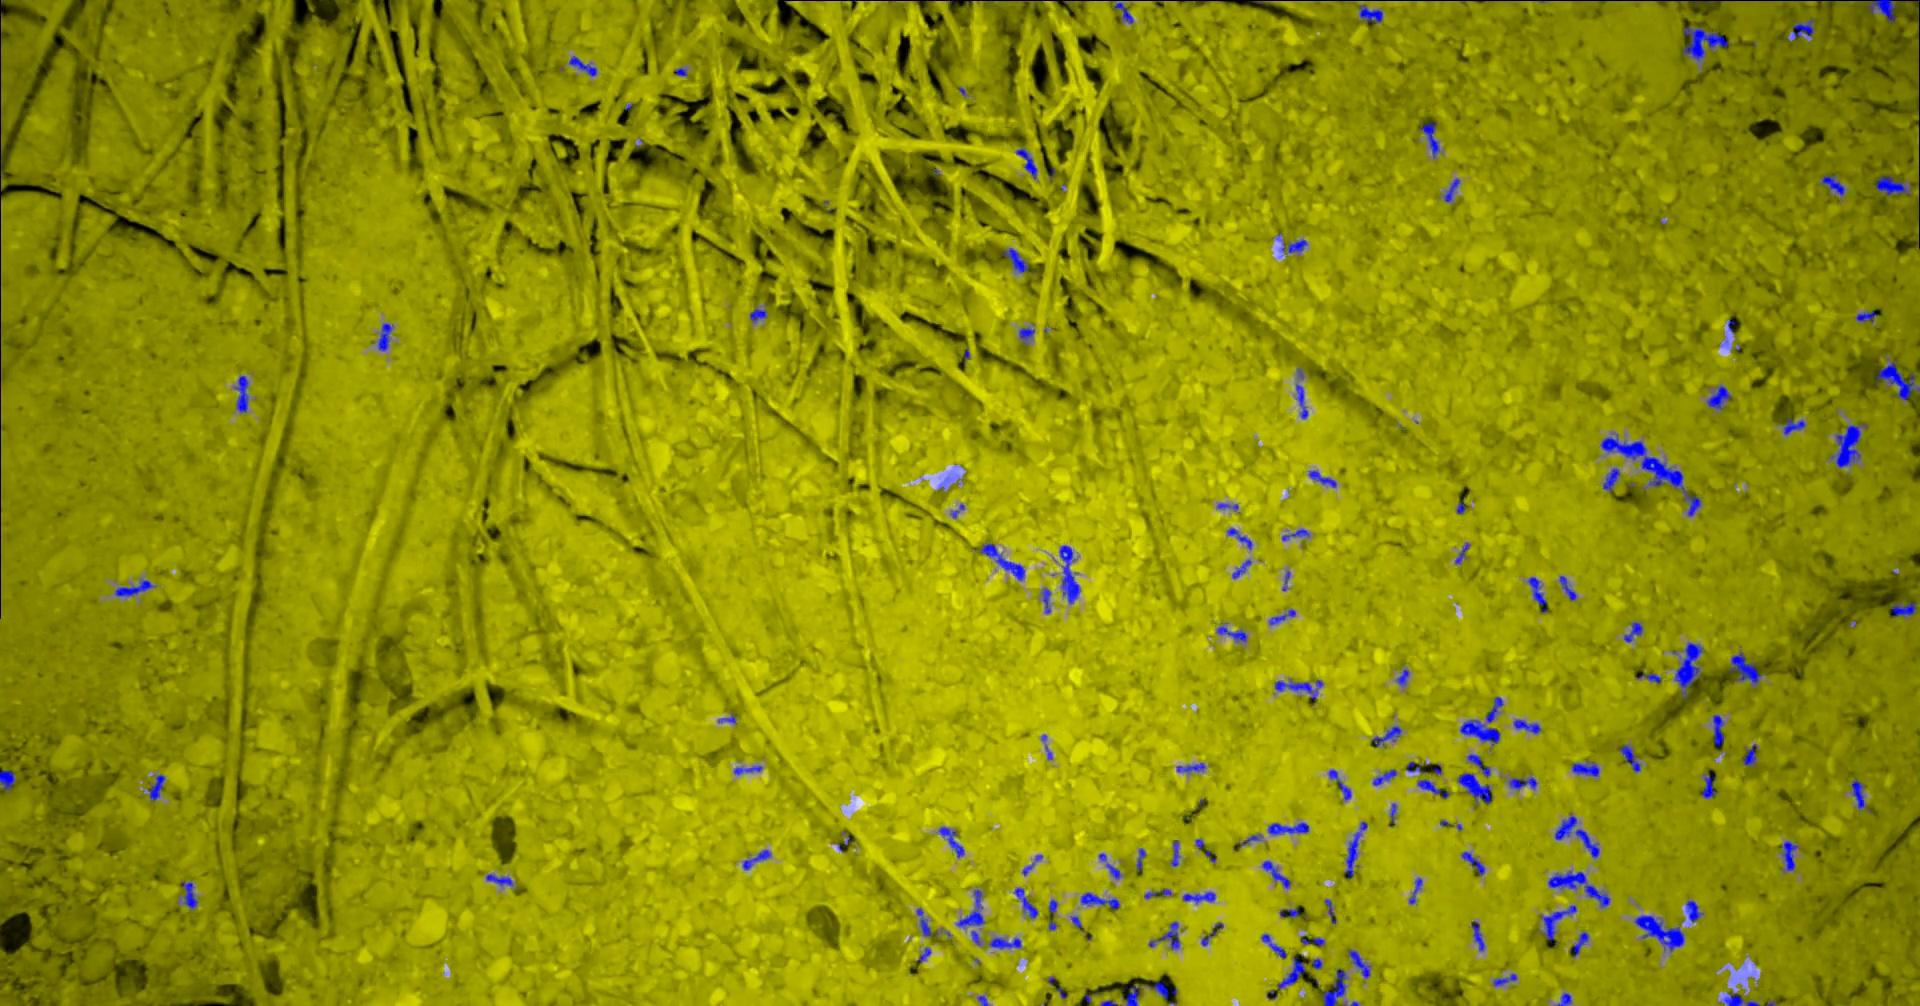ant: (1547, 870, 1609, 907), (1554, 815, 1599, 857), (1634, 915, 1684, 951), (1876, 361, 1919, 400), (1829, 423, 1867, 467), (979, 542, 1023, 580), (1683, 25, 1728, 60), (1674, 641, 1702, 697), (1855, 0, 1919, 22), (1343, 821, 1368, 876), (1540, 904, 1576, 940), (1059, 545, 1079, 603), (956, 888, 984, 927), (1459, 719, 1498, 746), (1457, 772, 1490, 803), (1730, 652, 1760, 683), (1321, 968, 1346, 1005), (1274, 680, 1322, 699), (1277, 956, 1305, 988), (1148, 921, 1178, 949), (938, 826, 964, 857), (1262, 860, 1290, 888), (1418, 121, 1439, 158), (1015, 887, 1037, 918), (1001, 246, 1029, 272), (1528, 575, 1547, 612), (1079, 892, 1119, 909), (1876, 175, 1910, 196), (1328, 768, 1351, 799), (114, 578, 152, 596), (1015, 149, 1036, 179), (1705, 384, 1731, 409), (1260, 934, 1286, 958), (916, 907, 937, 936), (1417, 779, 1449, 798), (1787, 19, 1815, 41), (568, 55, 596, 76), (1349, 949, 1370, 977), (1225, 527, 1252, 549), (1619, 744, 1641, 771), (742, 848, 770, 869), (1217, 622, 1246, 641), (1371, 727, 1401, 746), (1820, 173, 1844, 196), (1462, 851, 1484, 875), (1098, 854, 1121, 878), (1467, 754, 1490, 777), (1200, 922, 1223, 945), (1147, 981, 1176, 998), (1267, 822, 1308, 835), (234, 375, 248, 412), (1484, 696, 1503, 721), (1570, 931, 1589, 956), (1782, 840, 1797, 870), (1308, 470, 1336, 486), (1357, 4, 1382, 23), (1723, 992, 1759, 1005), (182, 880, 197, 909), (147, 774, 164, 800), (1114, 0, 1133, 23), (1891, 600, 1915, 617), (377, 323, 392, 351), (1182, 890, 1215, 903), (1851, 779, 1865, 808), (1470, 921, 1484, 950), (1269, 608, 1295, 624), (1603, 467, 1619, 492), (1559, 575, 1576, 600), (1371, 768, 1396, 785), (1295, 384, 1307, 418), (1512, 719, 1540, 733), (1571, 762, 1599, 776), (1230, 559, 1251, 578), (1623, 621, 1642, 641), (1783, 417, 1804, 434), (1443, 178, 1459, 201), (485, 873, 512, 887), (1408, 876, 1422, 903), (1712, 714, 1723, 746), (1685, 901, 1702, 922), (1509, 776, 1537, 789), (1742, 743, 1757, 766), (0, 768, 15, 791), (1702, 774, 1716, 798), (1123, 984, 1139, 1005), (1281, 239, 1307, 251), (989, 937, 1021, 948), (1281, 528, 1309, 540), (1176, 762, 1204, 774), (1454, 542, 1469, 563), (1636, 672, 1661, 683), (1855, 309, 1876, 323), (1300, 935, 1324, 946), (1492, 973, 1516, 984), (1143, 888, 1170, 898), (733, 765, 761, 774), (1324, 899, 1335, 923), (1041, 587, 1050, 614), (1170, 840, 1178, 866), (1018, 326, 1034, 342), (749, 307, 766, 321), (1396, 669, 1410, 685), (1554, 992, 1571, 1005), (1137, 848, 1145, 870), (1279, 908, 1299, 917), (1406, 761, 1420, 771)
